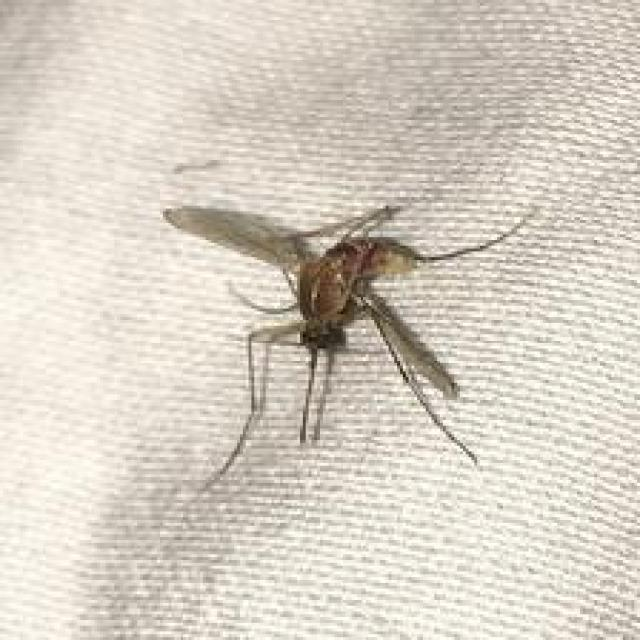Culex: (160, 197, 540, 494)
